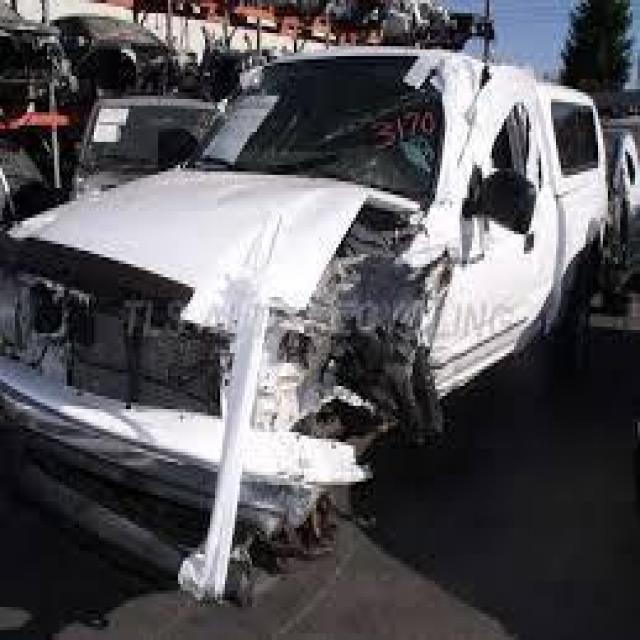damaged: (2, 59, 496, 594)
